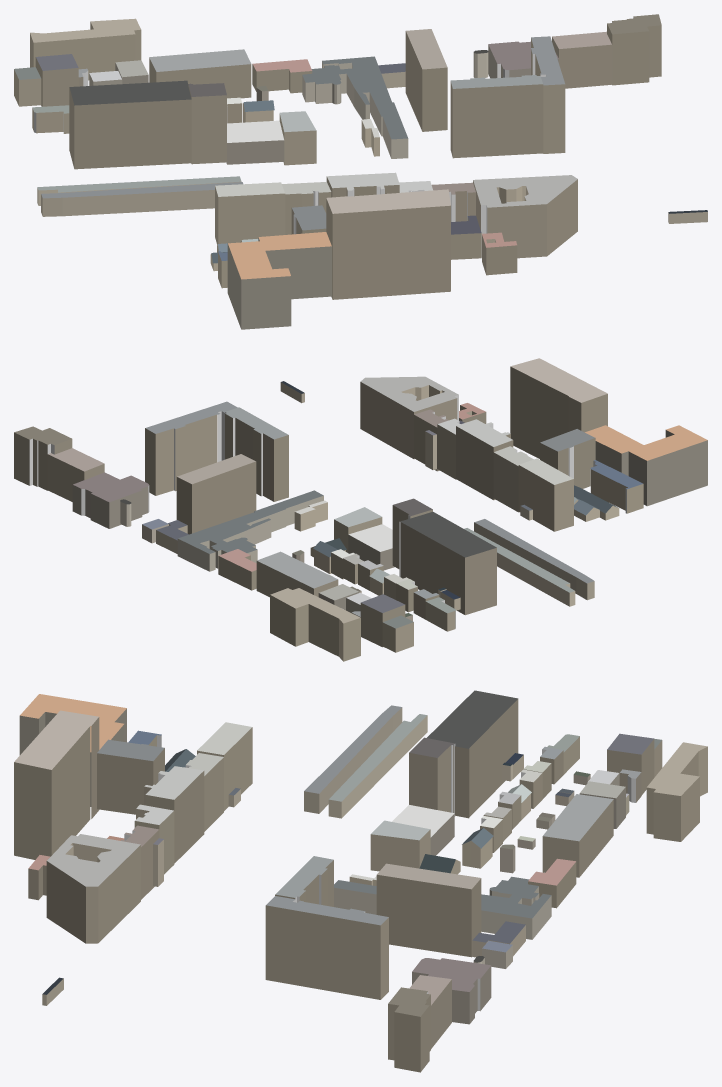
The picture shows the model from 3 angles, top to bottom: view 1: azimuth 30°, elevation 25°; view 2: azimuth 150°, elevation 25°; view 3: azimuth 270°, elevation 25°; orthographic projection. The views are drawn at different scales.
Visible parts, largest first — view 1: tuile; view 2: tuile; view 3: tuile.
Boxes of the visible parts, bbox=[...] form: tuile: bbox=[14, 14, 707, 329]; tuile: bbox=[14, 358, 707, 661]; tuile: bbox=[14, 690, 707, 1072].
Size of the model in its own units: 301 by 42.43 by 264.
